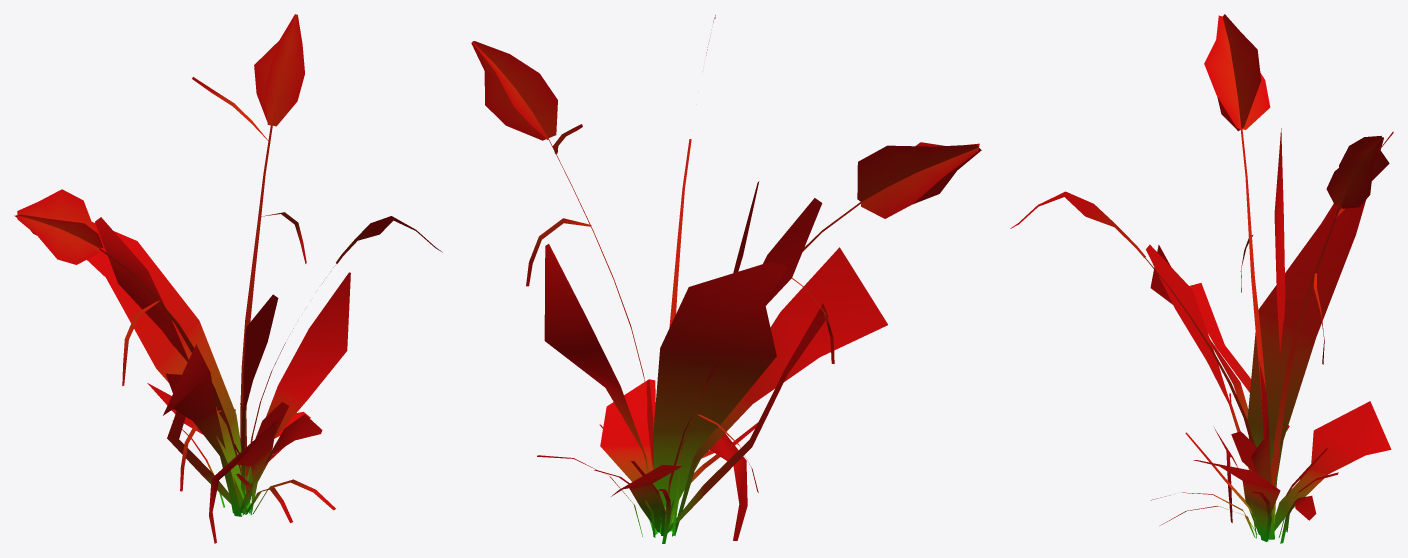
File: Dry Meadow Grass_LOD2_Var4_skljc.fbx
3 views of the same model, side by side, from view 1: azimuth 30°, elevation 25°; view 2: azimuth 150°, elevation 25°; view 3: azimuth 270°, elevation 25° (orthographic). The views are drawn at different scales.
Parts seen in each view (by area): view 1: _2560_Var4_LOD2; view 2: _2560_Var4_LOD2; view 3: _2560_Var4_LOD2.
Part boxes in pixels (box(x1,y1,x2,y2)): _2560_Var4_LOD2: box(14, 14, 442, 543); _2560_Var4_LOD2: box(471, 15, 981, 543); _2560_Var4_LOD2: box(1010, 14, 1393, 543).
Size of the model in its own units: 67.42 by 79.49 by 59.45.
